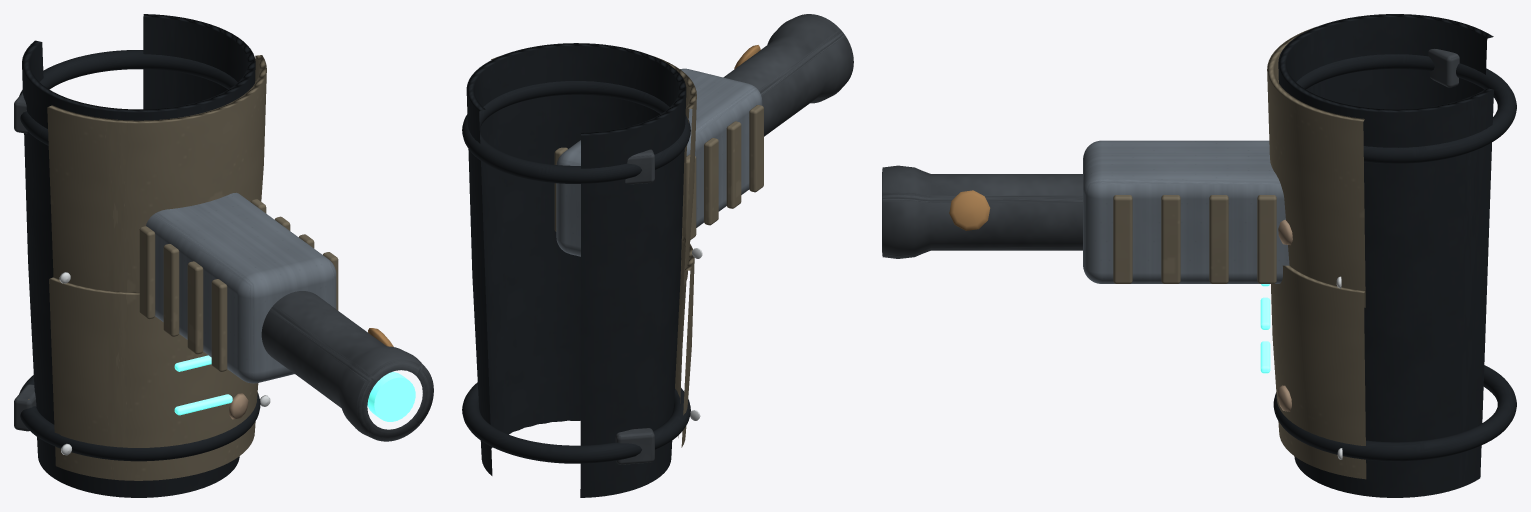
Rendered from wrist-emitter.glb.
3 renders of one model, left to right at view 1: azimuth 30°, elevation 25°; view 2: azimuth 150°, elevation 25°; view 3: azimuth 270°, elevation 25°, orthographic. The views are drawn at different scales.
Parts seen in each view (by area): view 1: ceramic / ceramic composite panel, polymer / stippled polymer, alloy / machined anodized alloy, darksteel / oil-blackened fittings, energy / emissive field channel; view 2: polymer / stippled polymer, darksteel / oil-blackened fittings, ceramic / ceramic composite panel, alloy / machined anodized alloy; view 3: polymer / stippled polymer, ceramic / ceramic composite panel, alloy / machined anodized alloy, darksteel / oil-blackened fittings, peened pin, energy / emissive field channel.
Part boxes in pixels (x1=…): ceramic / ceramic composite panel: x1=47, y1=55, x2=338, y2=480; polymer / stippled polymer: x1=19, y1=14, x2=260, y2=497; alloy / machined anodized alloy: x1=146, y1=192, x2=336, y2=383; darksteel / oil-blackened fittings: x1=14, y1=92, x2=433, y2=441; energy / emissive field channel: x1=174, y1=355, x2=415, y2=421; polymer / stippled polymer: x1=462, y1=43, x2=690, y2=497; darksteel / oil-blackened fittings: x1=615, y1=14, x2=853, y2=464; ceramic / ceramic composite panel: x1=491, y1=56, x2=763, y2=447; alloy / machined anodized alloy: x1=556, y1=68, x2=762, y2=256; polymer / stippled polymer: x1=1273, y1=14, x2=1516, y2=497; ceramic / ceramic composite panel: x1=1113, y1=27, x2=1366, y2=479; alloy / machined anodized alloy: x1=1083, y1=140, x2=1289, y2=283; darksteel / oil-blackened fittings: x1=882, y1=49, x2=1459, y2=258; peened pin: x1=949, y1=190, x2=990, y2=230; energy / emissive field channel: x1=1260, y1=284, x2=1270, y2=373.
Bounding box in the file's own units: 0.155 × 0.2701 × 0.3963.
Materials: 8 (5 with a texture image).
